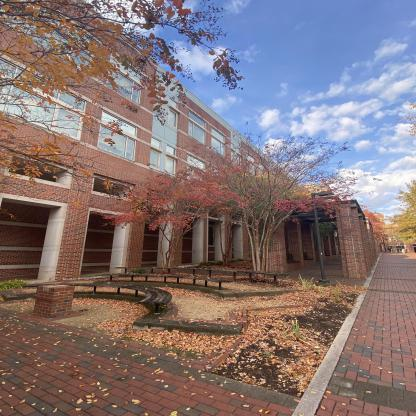EB-1: (5, 0, 414, 296)
